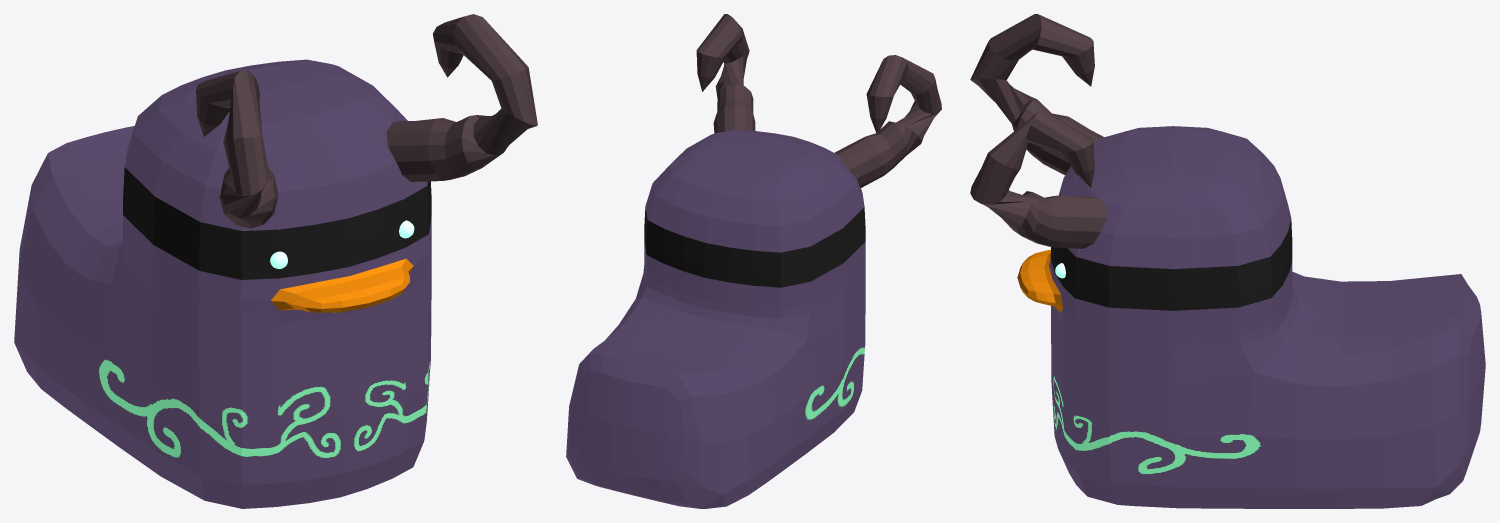
File: Duck_Wowdle.glb
3 renders of one model, left to right at view 1: azimuth 30°, elevation 25°; view 2: azimuth 150°, elevation 25°; view 3: azimuth 270°, elevation 25°, orthographic. The views are drawn at different scales.
Visible parts, largest first — view 1: Duck; view 2: Duck; view 3: Duck.
Part boxes in pixels (x1,y1,x2,y2): Duck: (14, 14, 537, 508); Duck: (566, 14, 941, 508); Duck: (970, 14, 1485, 508).
Size of the model in its own units: 2.49 by 3.76 by 4.34.
5 materials, 1 textured.
